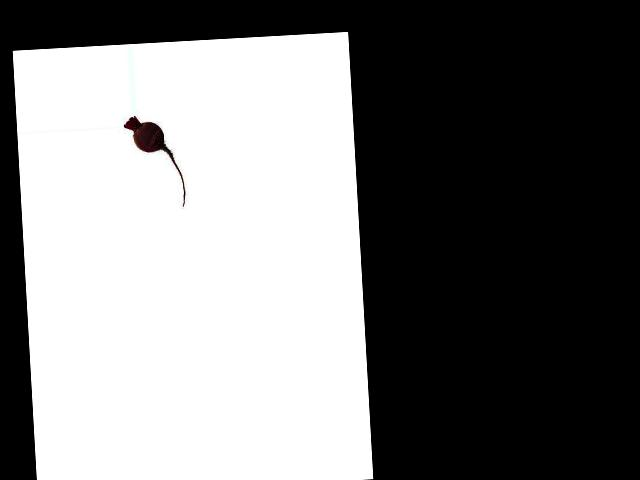beet: (124, 114, 186, 210)
